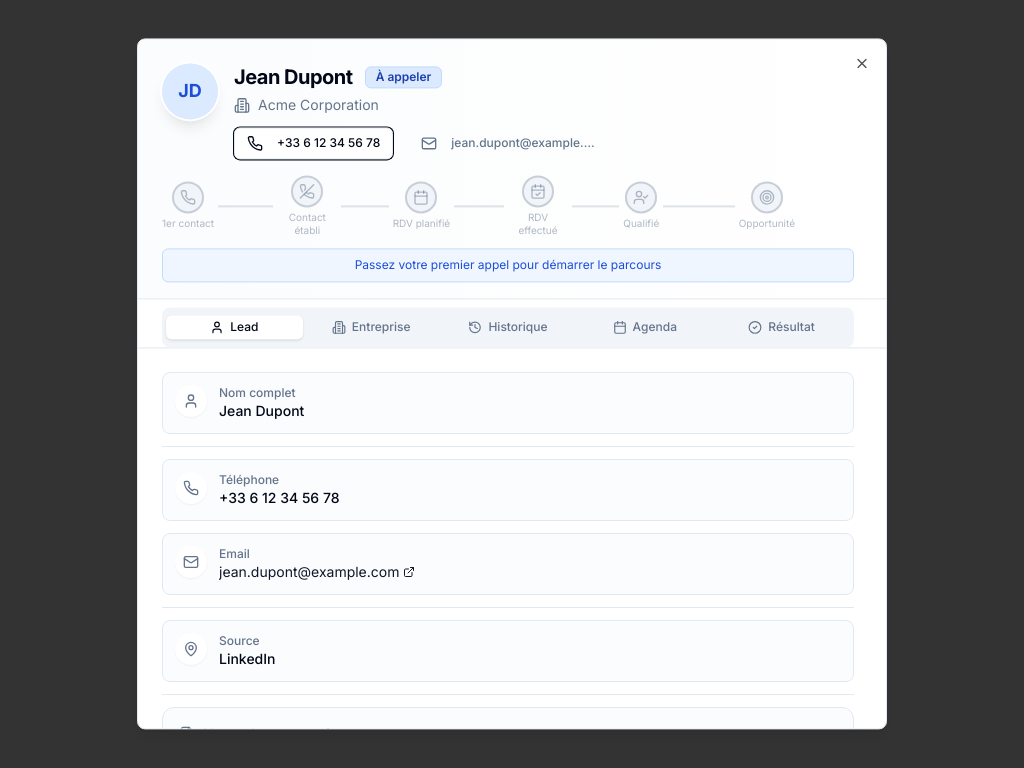
CallResultDialog › Company Tab - Link Display › should display 'Voir le site' instead of full URL for website
Note: Click on Company tab
Click the tab "Entreprise" at (371, 327), box 303,315 -> 440,339
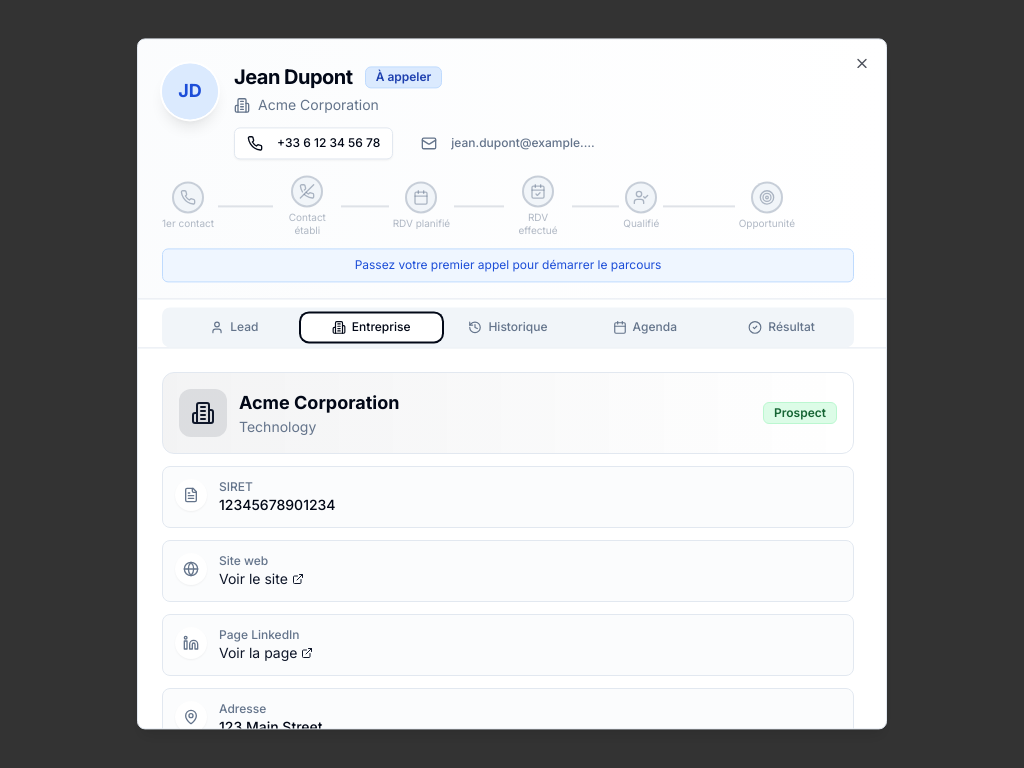
Check: the text "Voir le site" is shown, box 219,569 -> 288,589
